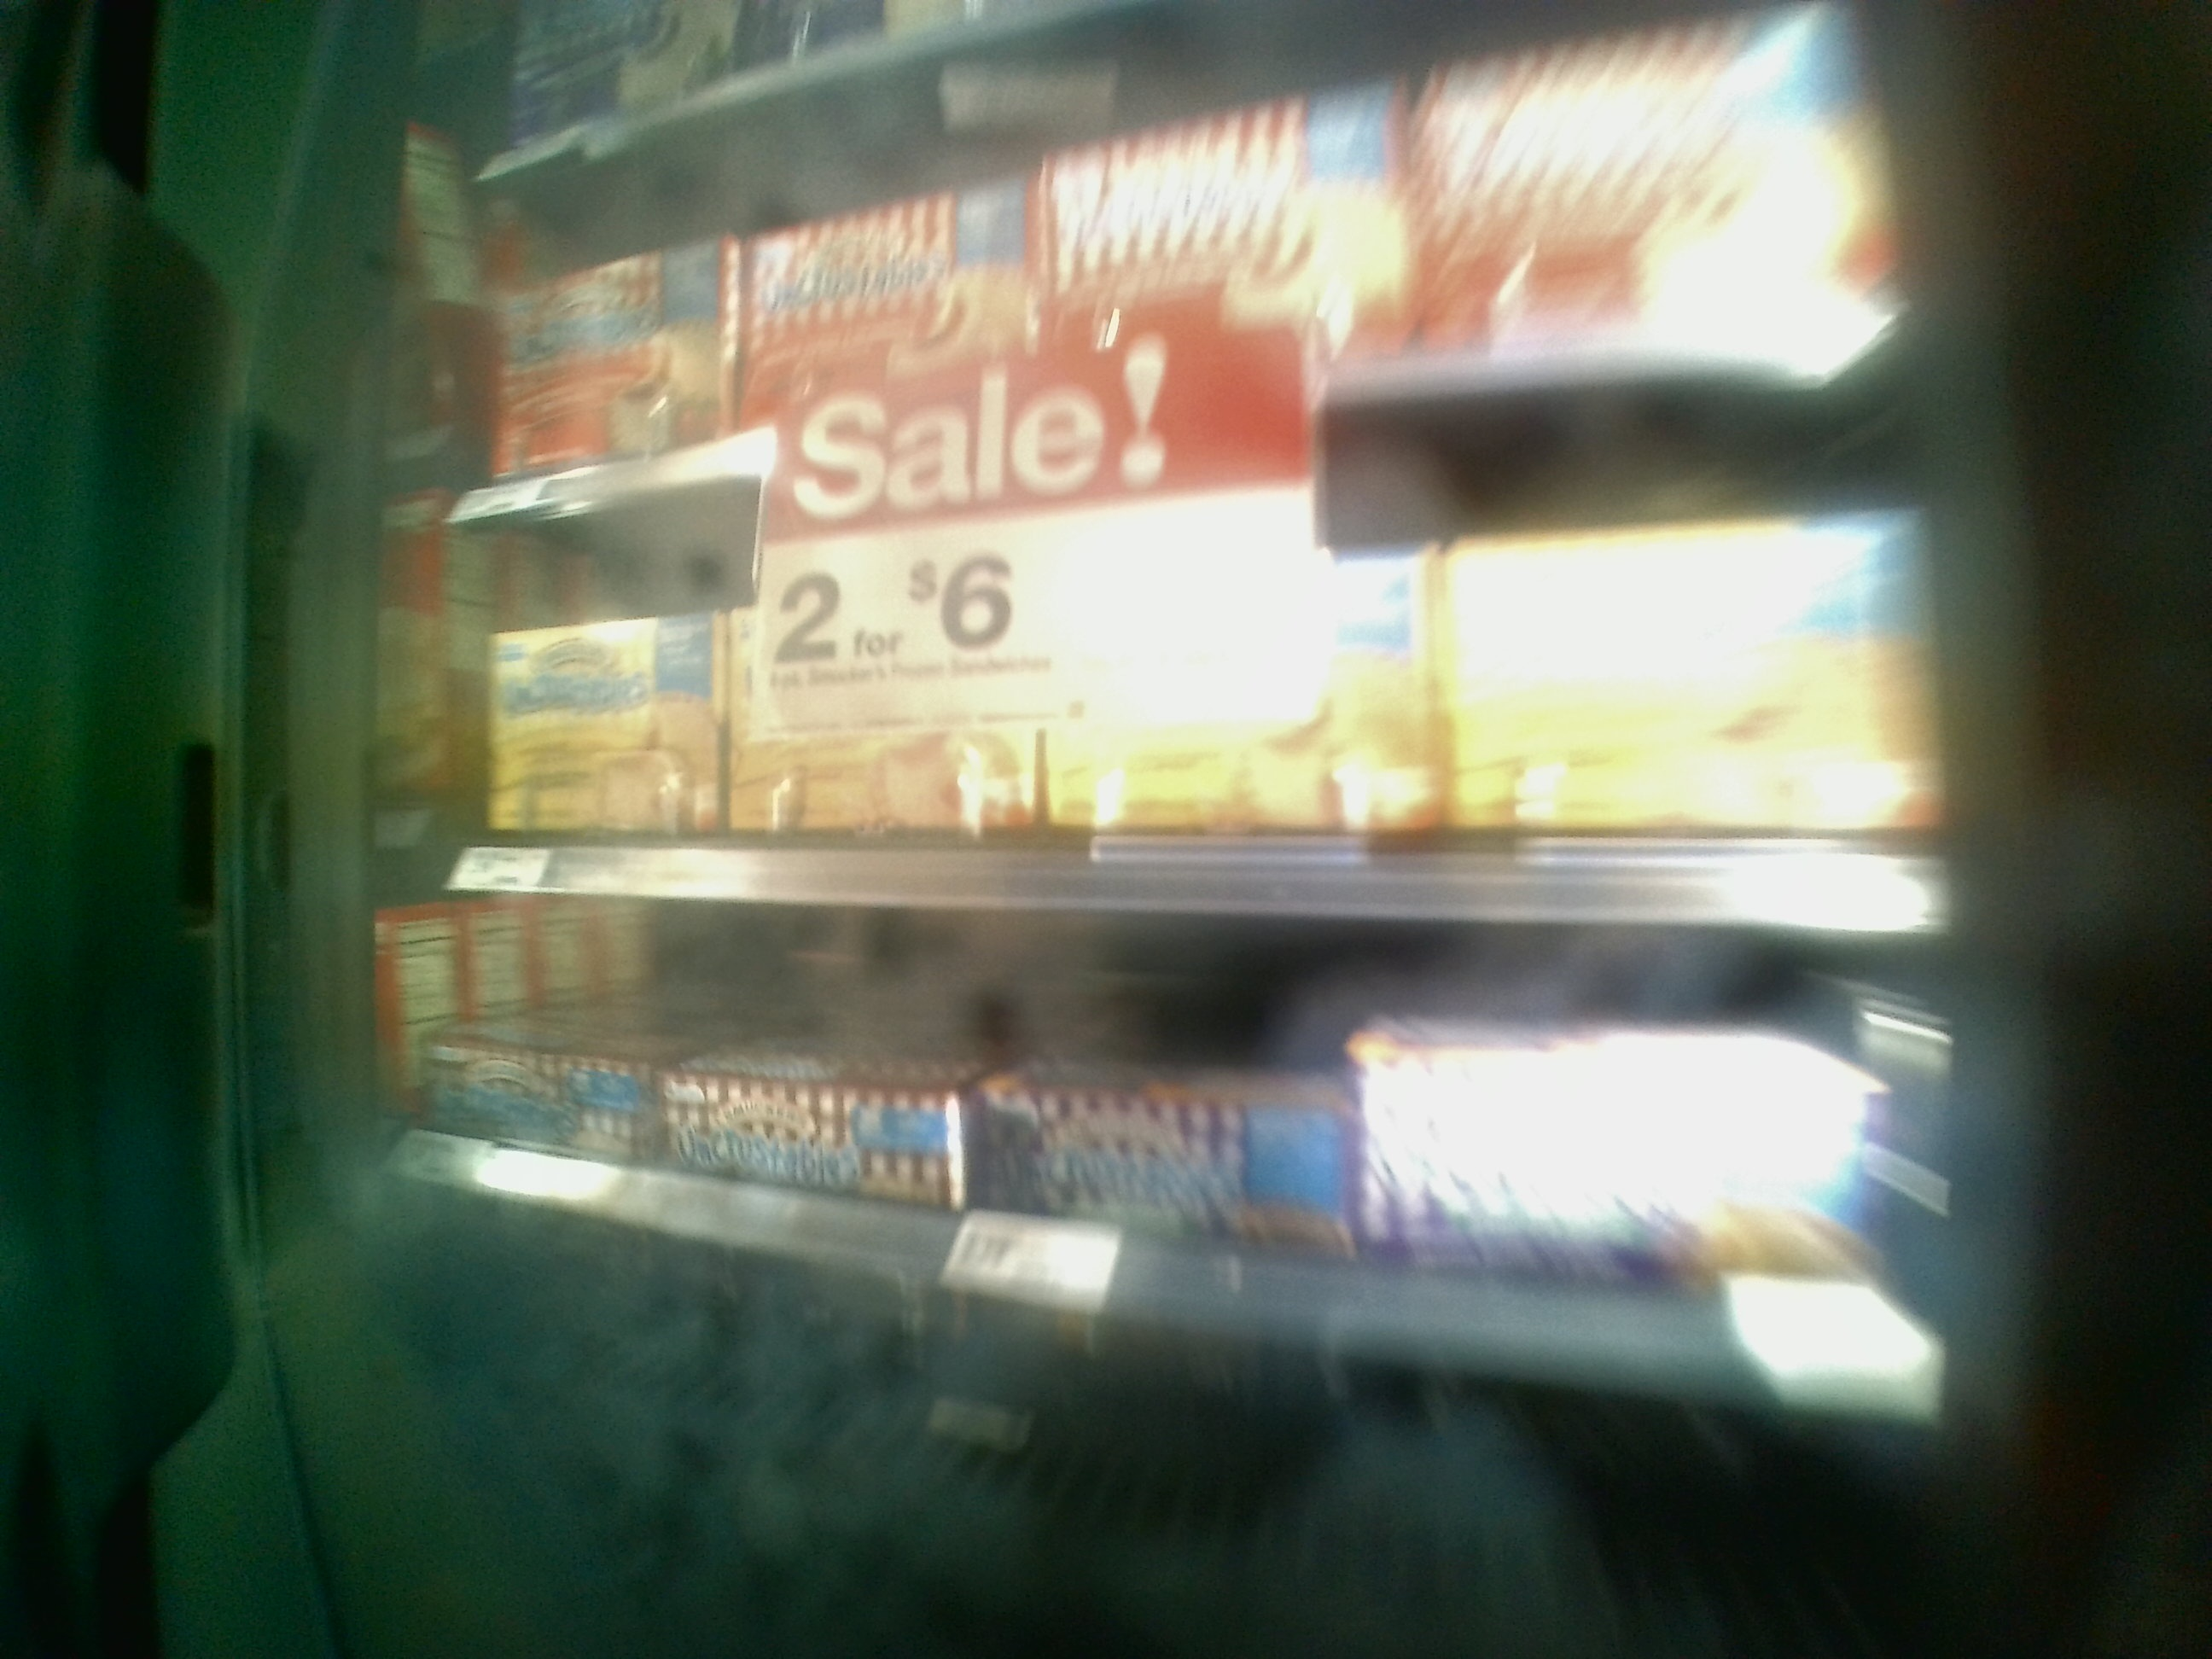shelf: (430, 894, 1963, 1476), (432, 481, 1939, 911)
